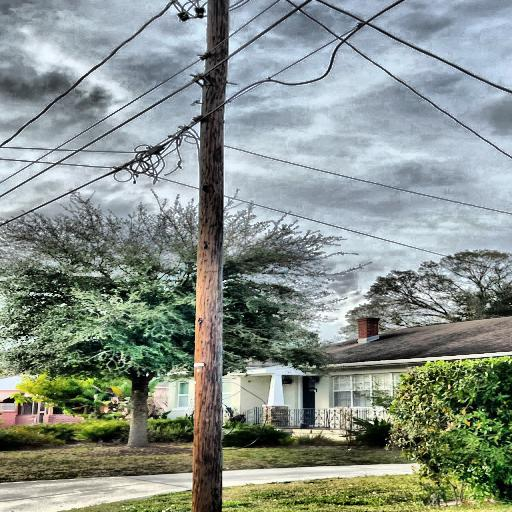pole: (180, 0, 240, 512)
